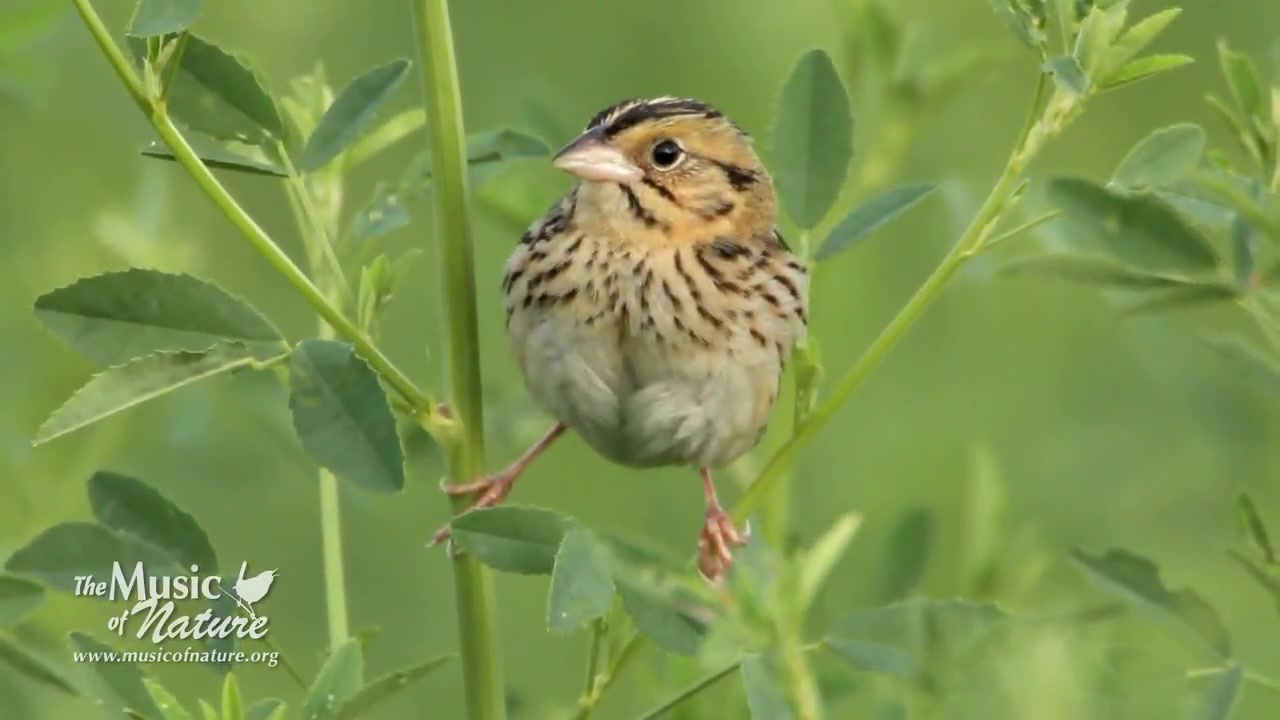bird: (429, 96, 812, 588)
